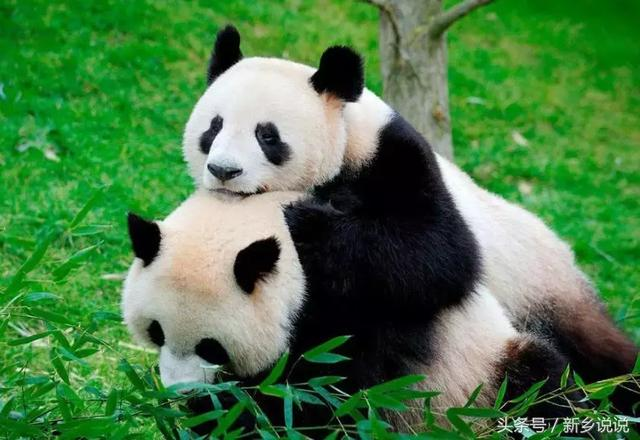panda: (182, 22, 640, 383), (120, 186, 581, 436)
